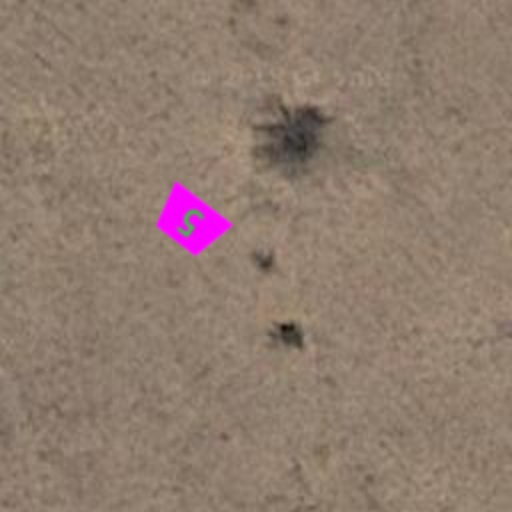trapezoid: (138, 170, 242, 274)
